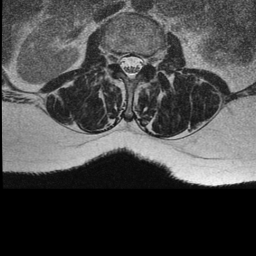CCS_normal: (127, 46, 135, 88)
LFS_normal: (144, 45, 153, 74)
LLS_normal: (135, 46, 144, 77)
RFS_normal: (109, 41, 119, 71)
RLS_normal: (119, 45, 127, 80)
